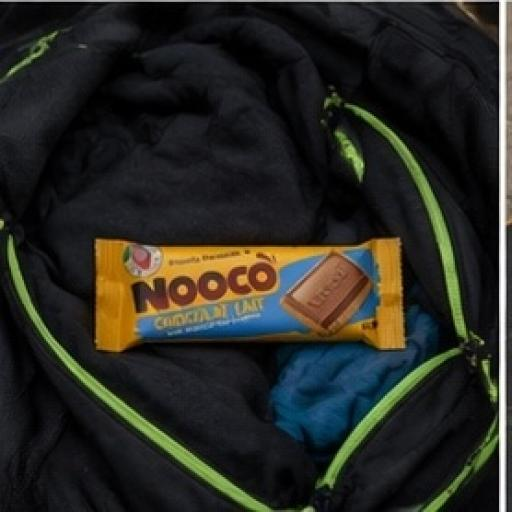biscuit-detection: (72, 191, 458, 389)
